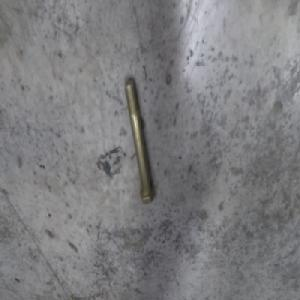Bolt: (124, 77, 154, 203)
